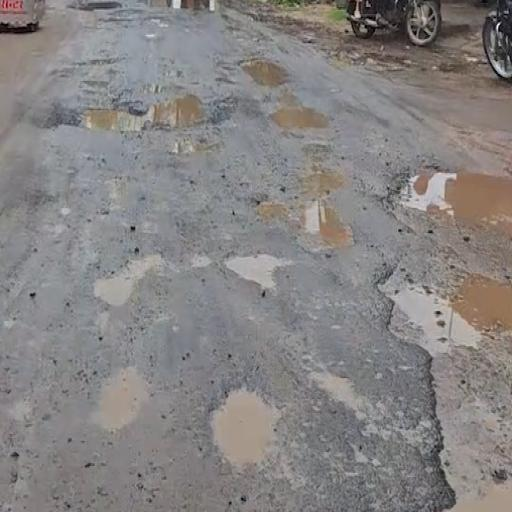pothole: (357, 222, 512, 510), (38, 32, 245, 167), (193, 346, 304, 486), (357, 121, 510, 216), (233, 159, 376, 260), (64, 209, 182, 318), (71, 325, 166, 446), (229, 36, 328, 145), (211, 226, 301, 308)
